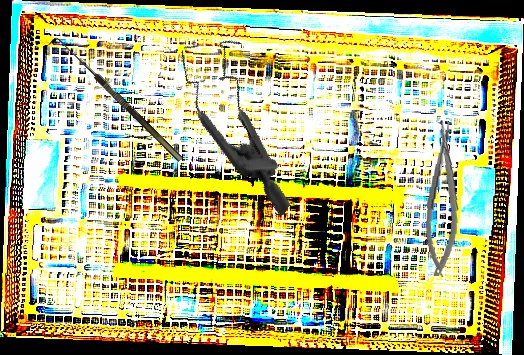Hook Surgical: (47, 33, 184, 169)
Needle Holder: (420, 120, 467, 278)
Speculum: (136, 18, 349, 217)
